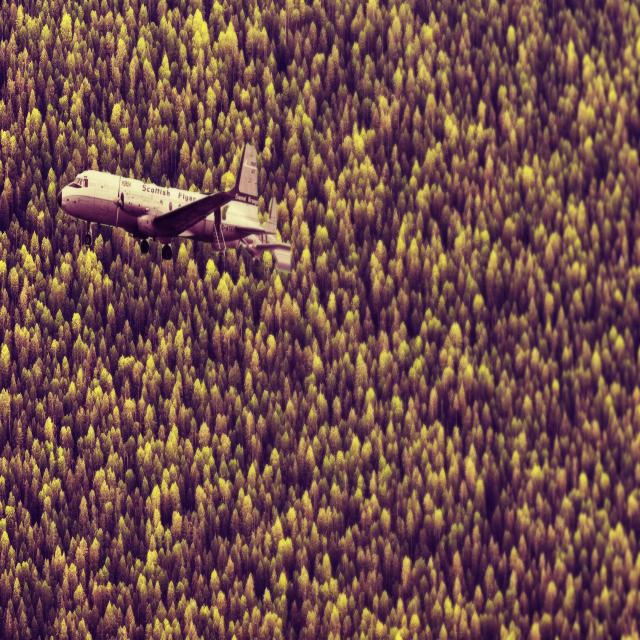airplane: (56, 141, 292, 274)
